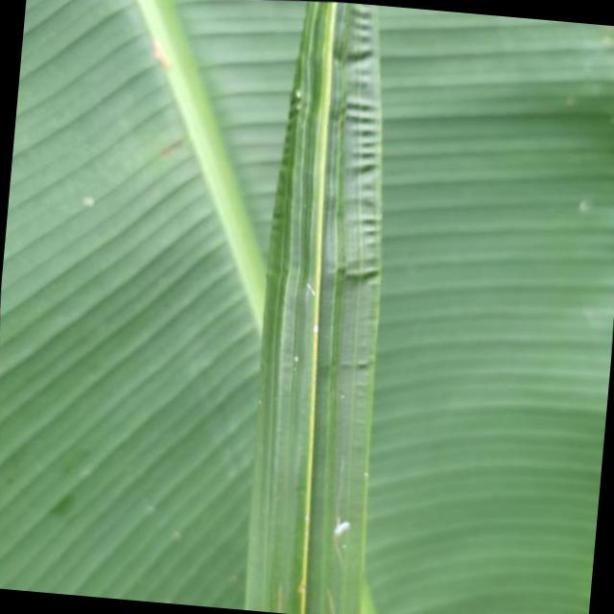Boron: (243, 0, 382, 614)
